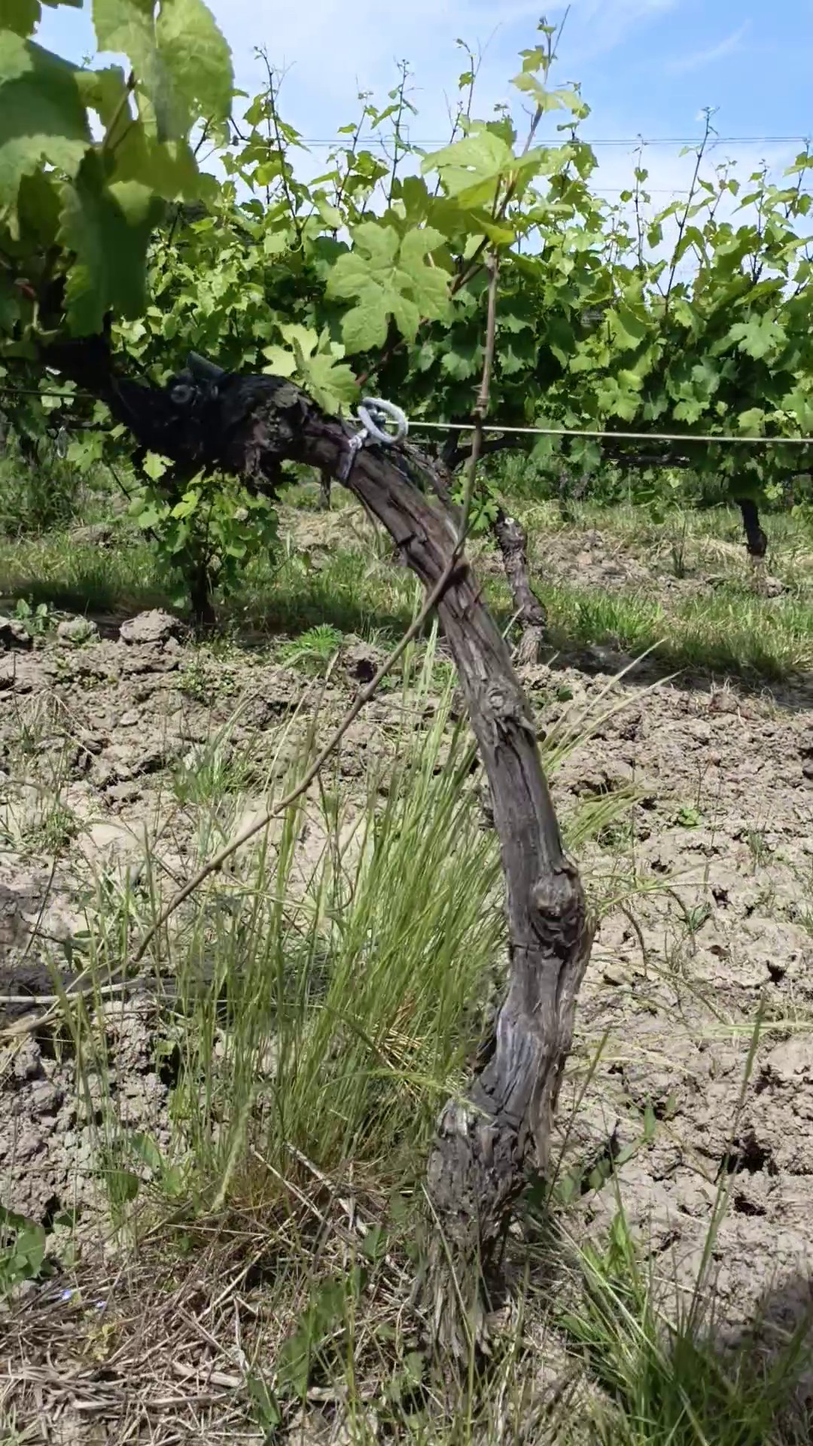vine_trunk: (429, 563, 592, 1268)
